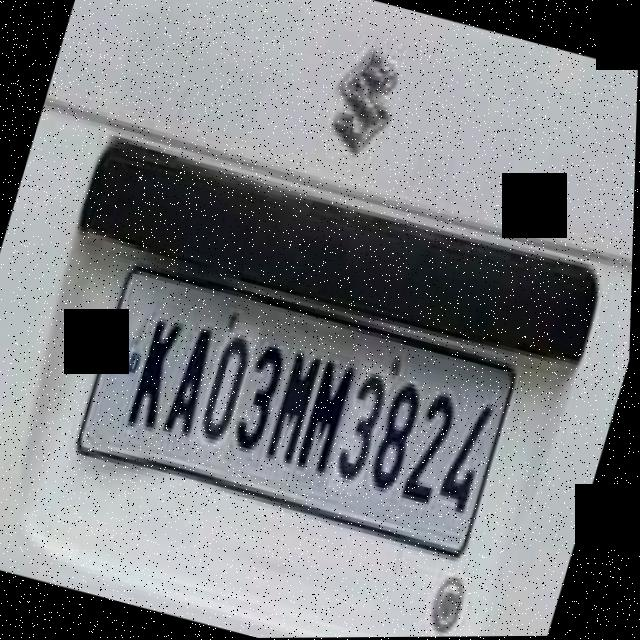0: (194, 319, 263, 450)
3: (227, 328, 298, 469), (329, 361, 398, 498)
4: (431, 383, 510, 538)
8: (365, 373, 432, 502)
A: (160, 311, 227, 446)
K: (122, 300, 193, 435)
M: (294, 352, 364, 489), (263, 342, 330, 476)
